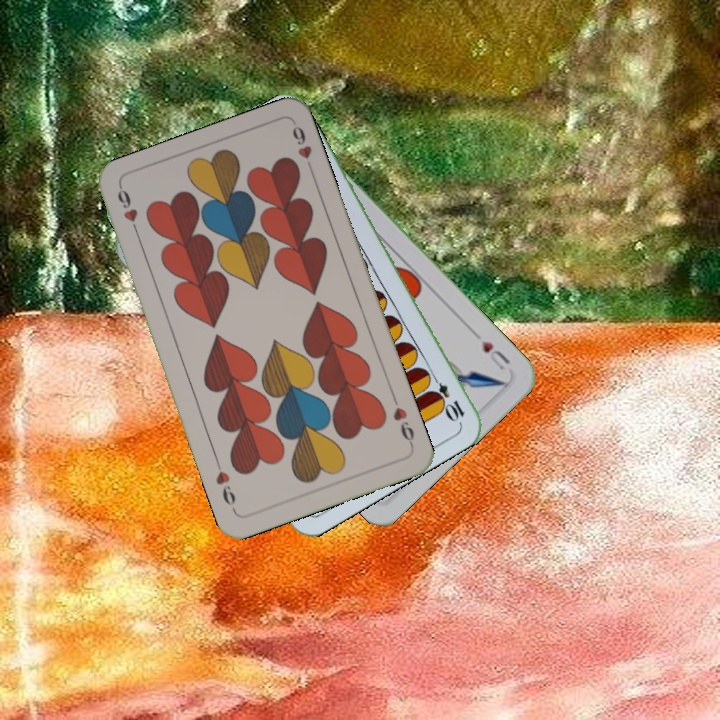E10: (425, 369, 467, 424)
H9: (113, 183, 143, 241), (389, 393, 417, 450)
HU: (469, 328, 513, 373)
